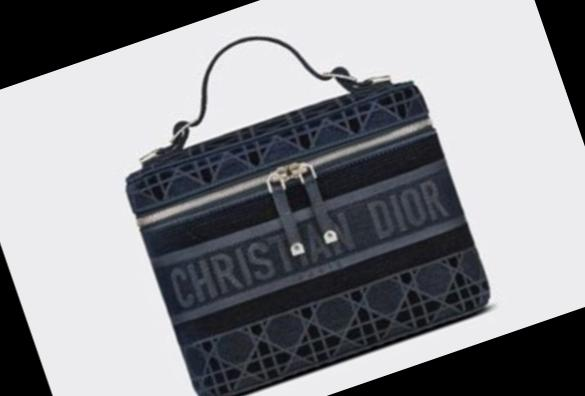DIOR: (157, 161, 464, 335)
